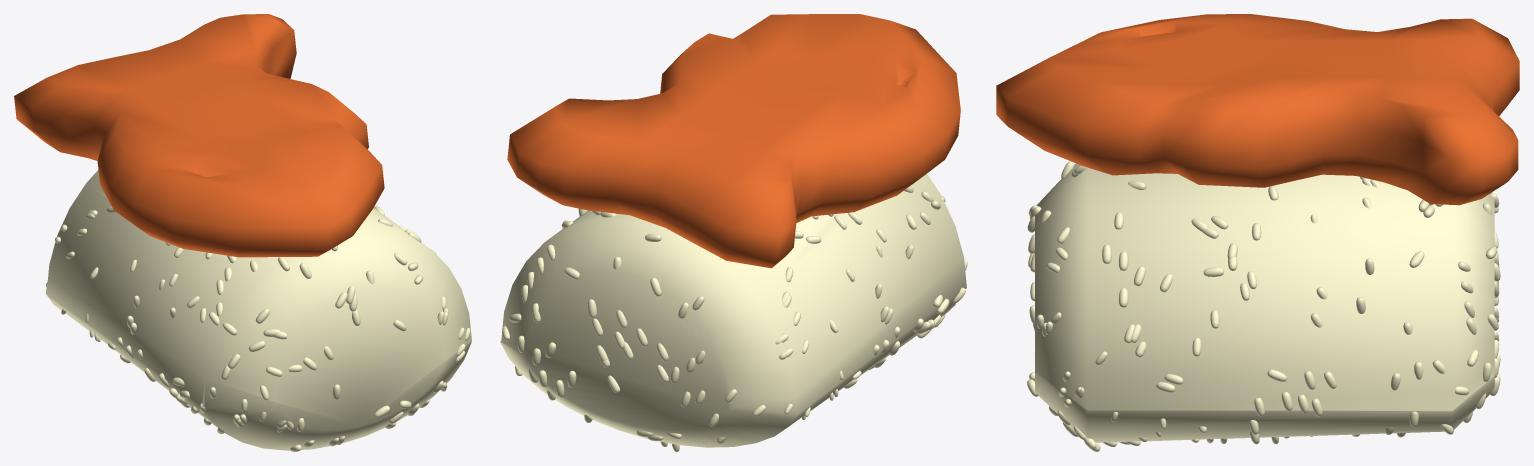
File: sushi.fbx
3 views of the same model, side by side, from view 1: azimuth 30°, elevation 25°; view 2: azimuth 150°, elevation 25°; view 3: azimuth 270°, elevation 25° (orthographic). The views are drawn at different scales.
Parts seen in each view (by area): view 1: SushiBase, Plane; view 2: SushiBase, Plane; view 3: SushiBase, Plane.
Boxes of the visible parts, left/top/right/bottom form: SushiBase: left=45, top=170, right=471, bottom=450; Plane: left=14, top=14, right=384, bottom=257; SushiBase: left=500, top=174, right=966, bottom=447; Plane: left=507, top=14, right=960, bottom=268; SushiBase: left=1035, top=163, right=1494, bottom=442; Plane: left=996, top=14, right=1519, bottom=205.
Size of the model in its own units: 104 by 98.32 by 134.
